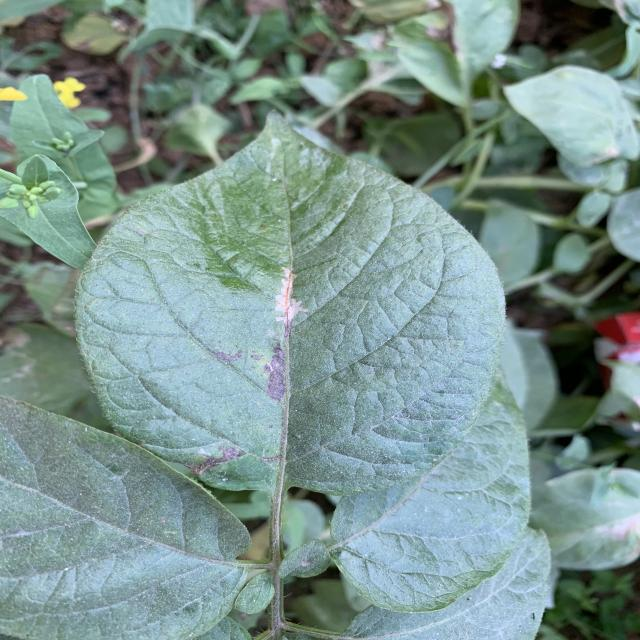lateblight: (275, 268, 308, 341), (263, 345, 287, 401)
